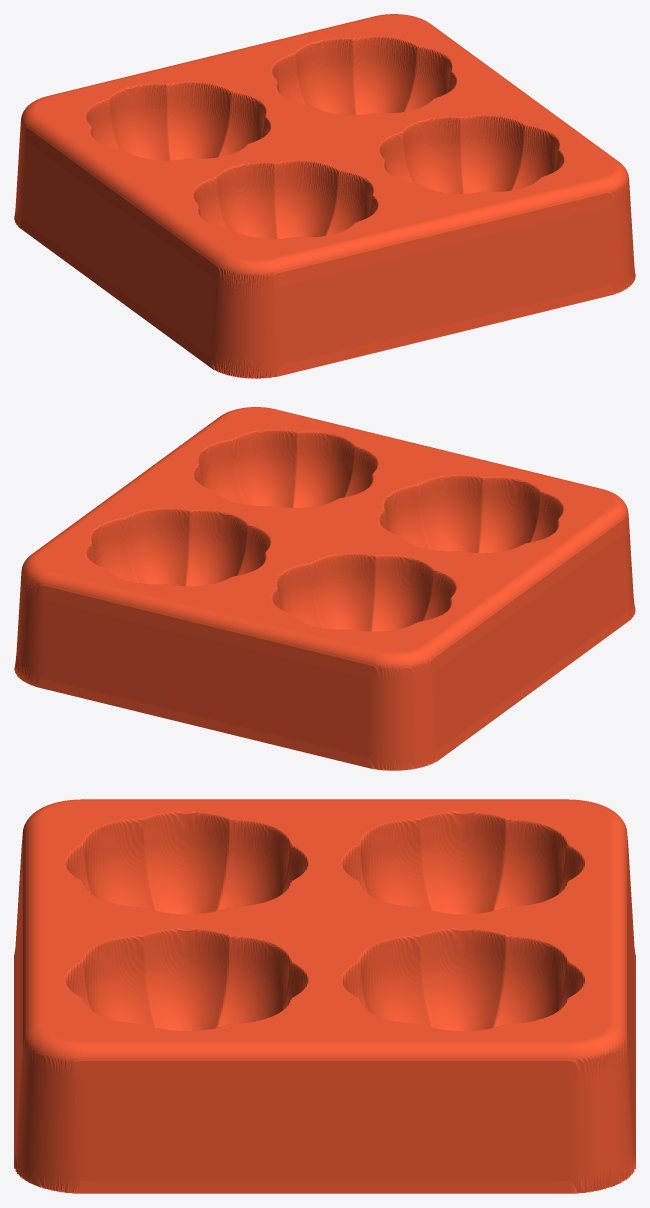
Rendered from mold.glb.
3 views of the same model, one above another, from view 1: azimuth 30°, elevation 25°; view 2: azimuth 150°, elevation 25°; view 3: azimuth 270°, elevation 25° (orthographic). The views are drawn at different scales.
Parts seen in each view (by area): view 1: geometry_0; view 2: geometry_0; view 3: geometry_0.
Boxes of the visible parts, x1,y1,x2,y2 form: geometry_0: (14,14,635,378); geometry_0: (14,407,635,770); geometry_0: (14,799,635,1193).
Size of the model in its own units: 0.0828 by 0.0207 by 0.0828.
